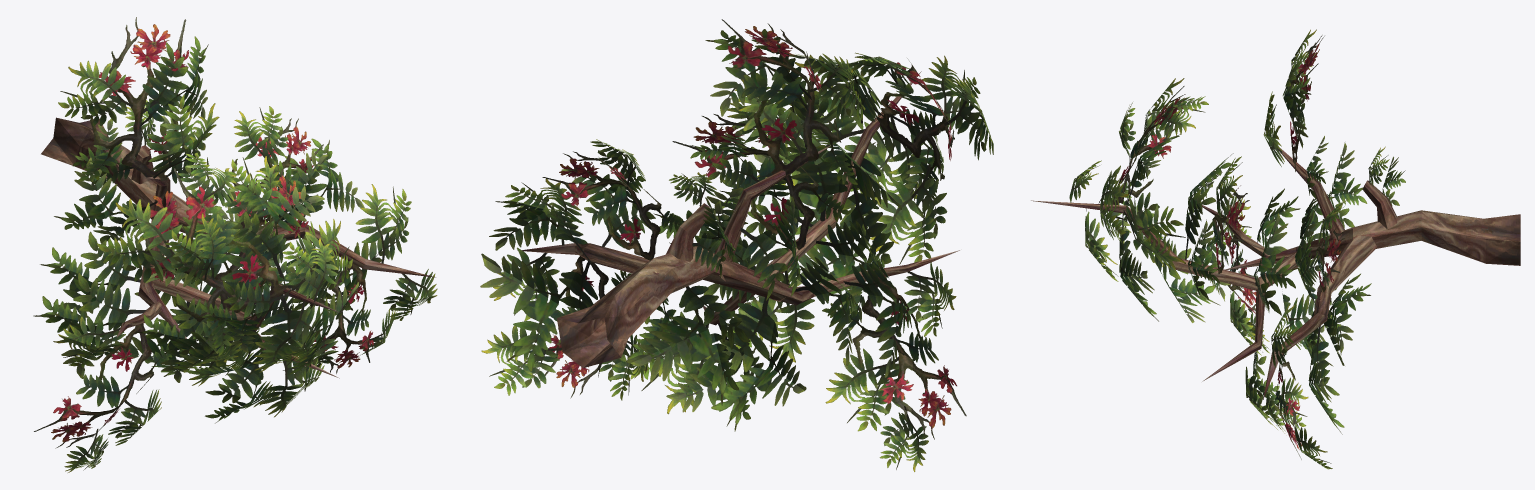
File: fenghuangmu.obj
The picture shows the model from 3 angles, left to right: view 1: azimuth 30°, elevation 25°; view 2: azimuth 150°, elevation 25°; view 3: azimuth 270°, elevation 25°; orthographic projection. The views are drawn at different scales.
Visible parts, largest first — view 1: fenghuangmu; view 2: fenghuangmu; view 3: fenghuangmu.
Part boxes in pixels (x1,y1,x2,y2): fenghuangmu: (33,17,437,472); fenghuangmu: (480,19,993,471); fenghuangmu: (1031,29,1520,469).
Size of the model in its own units: 237 by 218 by 267.
Materials: 2 (2 with a texture image).
